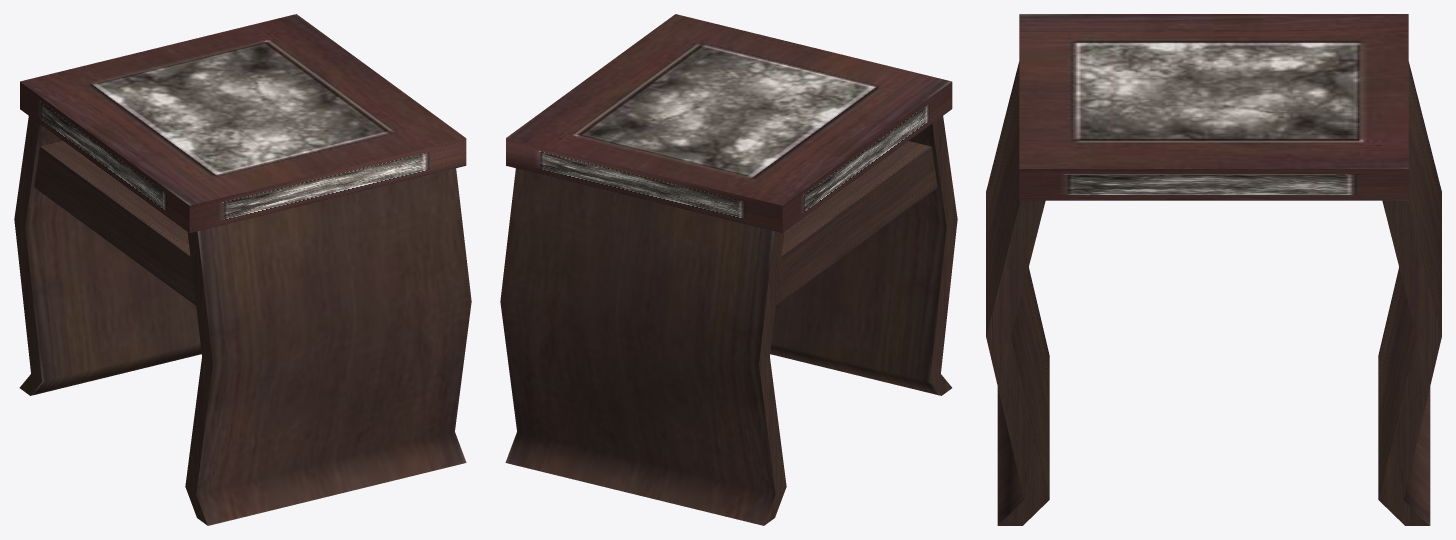
3 renders of one model, left to right at view 1: azimuth 30°, elevation 25°; view 2: azimuth 150°, elevation 25°; view 3: azimuth 270°, elevation 25°, orthographic. The views are drawn at different scales.
Visible parts, largest first — view 1: Box21227; view 2: Box21227; view 3: Box21227.
Boxes of the visible parts, x1,y1,x2,y2 form: Box21227: (14, 14, 471, 525); Box21227: (500, 14, 957, 525); Box21227: (986, 14, 1441, 525).
Bounding box in the file's own units: 11.99 × 13.07 × 14.92.
